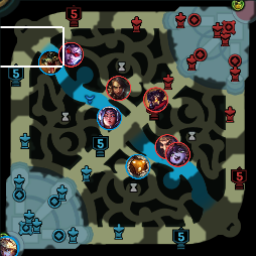bard: (125, 154, 149, 179)
draven: (156, 134, 178, 157)
ezreal: (1, 235, 20, 256)
irelia: (98, 107, 120, 129)
lulu: (166, 143, 190, 165)
nidalee: (107, 76, 130, 100)
renekton: (37, 52, 62, 75)
vayne: (60, 43, 83, 66)
viktor: (142, 86, 167, 111)
